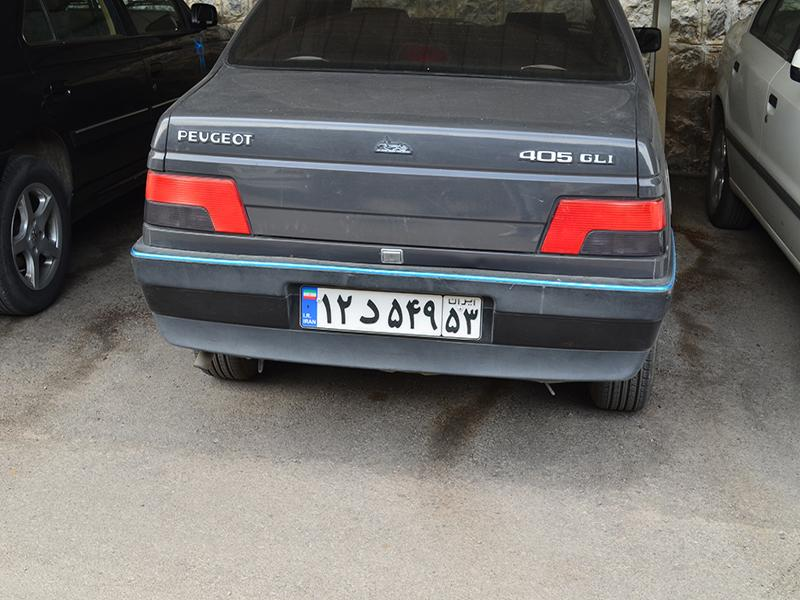Plate: (301, 284, 482, 339)
